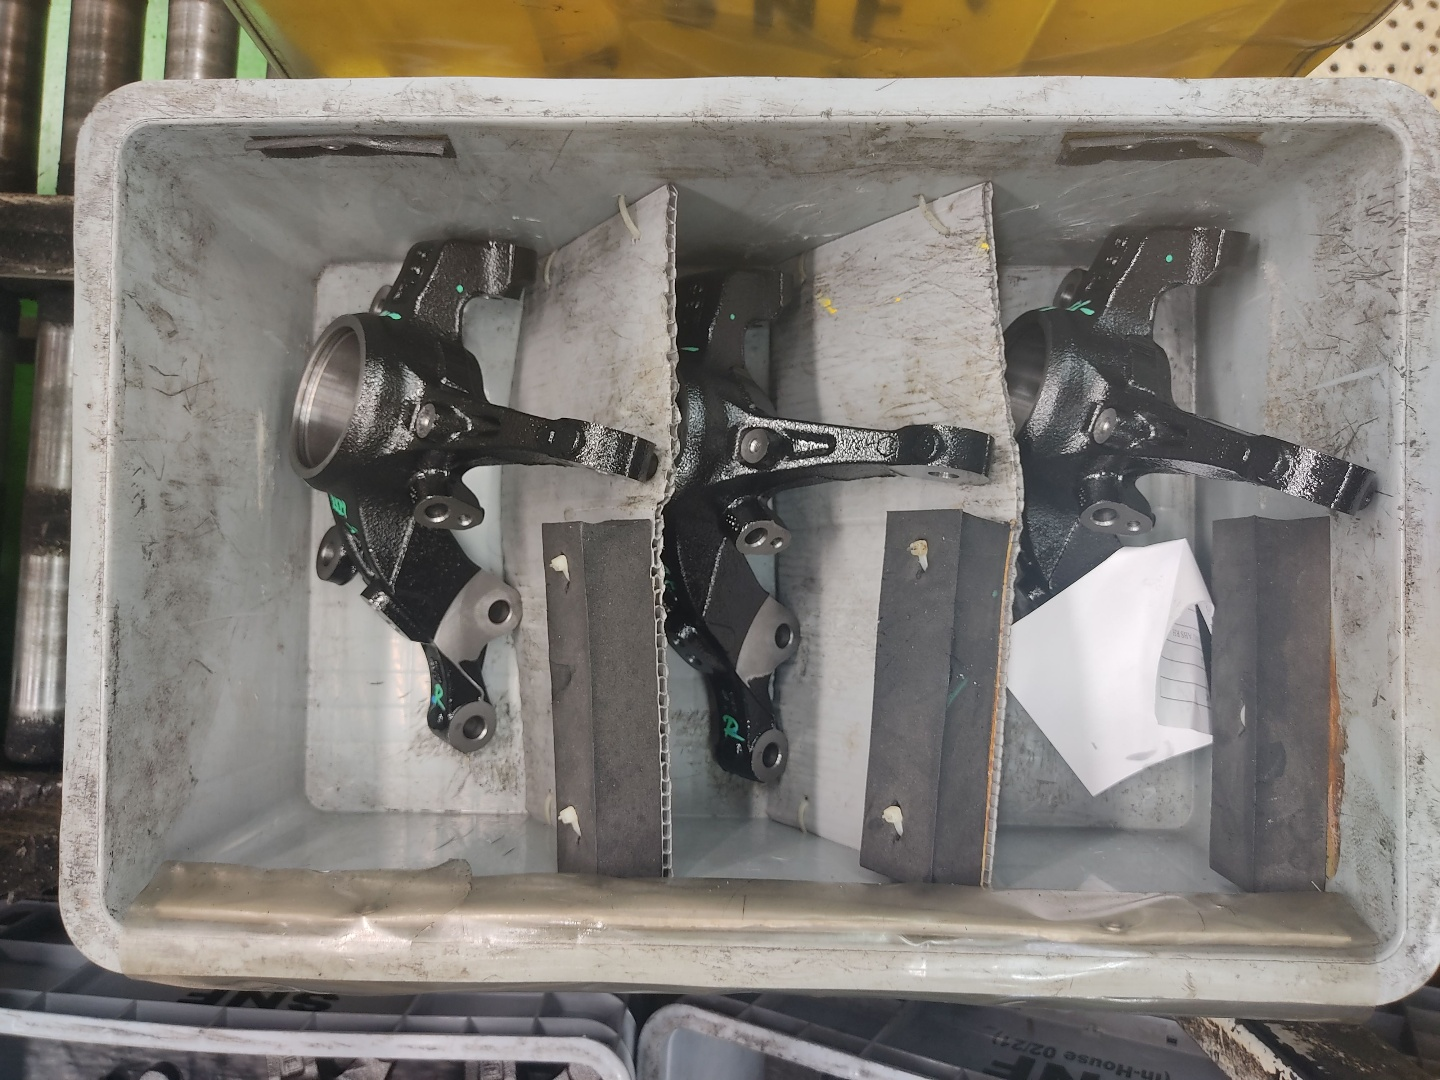abs-rh: (996, 218, 1381, 763), (283, 230, 664, 763), (667, 246, 997, 799)
